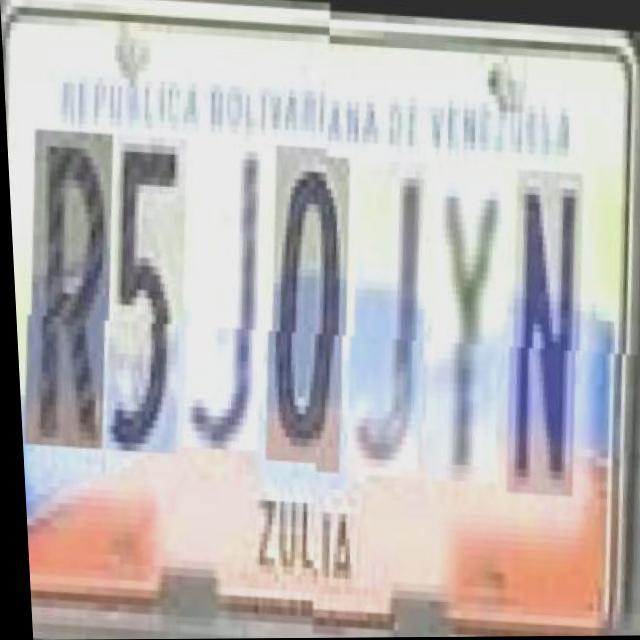5: (100, 141, 200, 460)
j: (177, 144, 280, 457), (340, 153, 441, 472)
n: (498, 162, 596, 490)
o: (258, 148, 364, 469)
r: (17, 135, 127, 456)
y: (419, 165, 522, 478)
